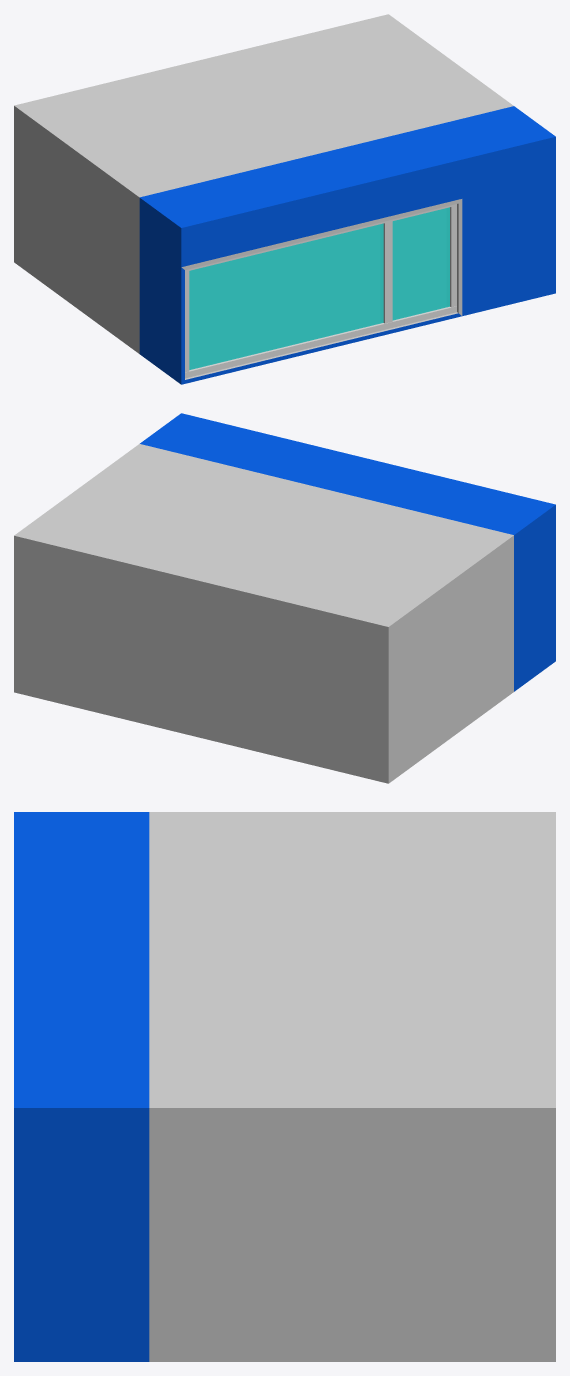
Rendered from oil shop.fbx.
3 views of the same model, one above another, from view 1: azimuth 30°, elevation 25°; view 2: azimuth 150°, elevation 25°; view 3: azimuth 270°, elevation 25° (orthographic). The views are drawn at different scales.
Parts seen in each view (by area): view 1: Box339, Plane234, Box340; view 2: Box339; view 3: Box339.
Part boxes in pixels (x1,y1,x2,y2): Box339: (14, 14, 555, 384); Plane234: (189, 207, 449, 369); Box340: (185, 204, 456, 378); Box339: (14, 413, 555, 783); Box339: (14, 812, 555, 1361).
Bounding box in the file's own units: 144 × 57.53 × 111.
